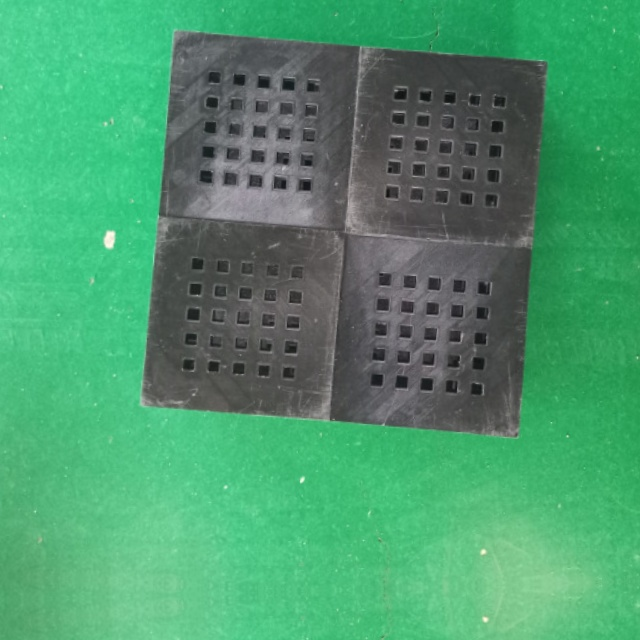pallet: (130, 26, 553, 443)
